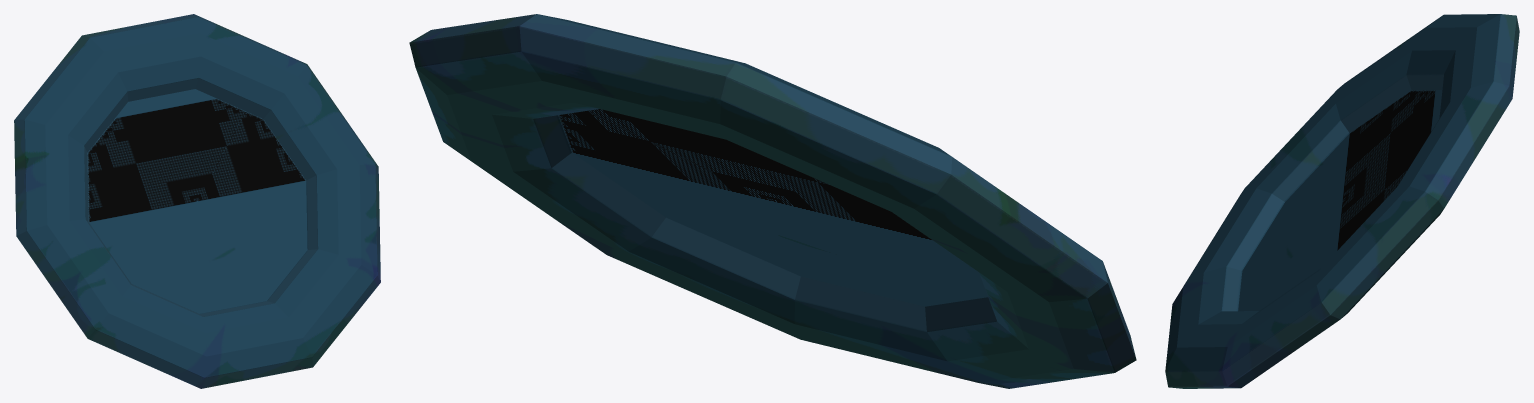
Rendered from Nido.fbx.
3 views of the same model, side by side, from view 1: azimuth 30°, elevation 25°; view 2: azimuth 150°, elevation 25°; view 3: azimuth 270°, elevation 25° (orthographic). The views are drawn at different scales.
Parts seen in each view (by area): view 1: node_id6 (×2); view 2: node_id6 (×2); view 3: node_id6 (×2).
Boxes of the visible parts, x1=… form: node_id6 (×2): x1=14, y1=14, x2=380, y2=388; node_id6 (×2): x1=409, y1=14, x2=1136, y2=388; node_id6 (×2): x1=1165, y1=14, x2=1519, y2=388.
Size of the model in its own units: 0.5113 by 0.3553 by 0.3555.
2 materials, 2 textured.
